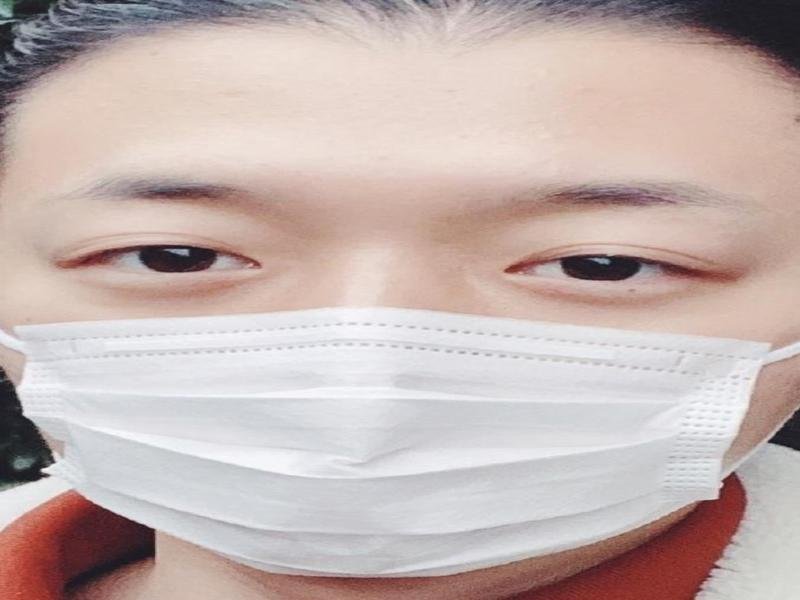with_mask: (1, 10, 798, 600)
